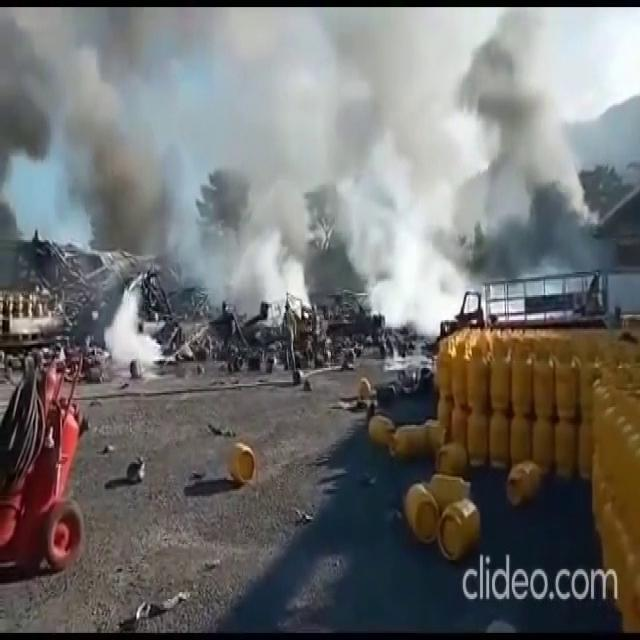Smoke: (3, 25, 606, 315), (94, 284, 158, 374)
